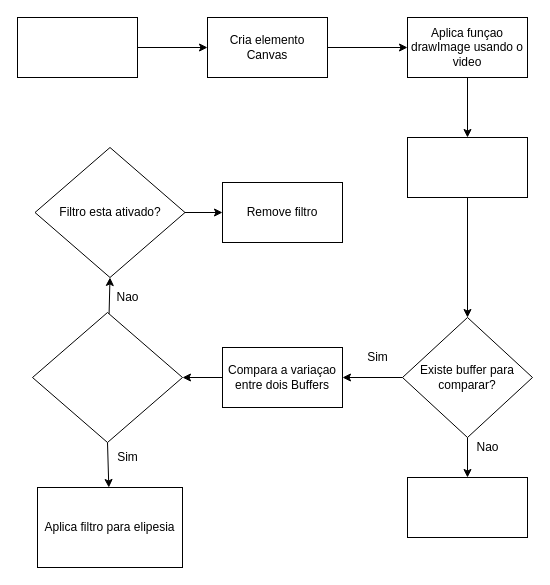
The diagram is 550 pixels wide and 585 high, and some of its shapes have lost their labels. The box of each missing label's shape, as (x1, y1, x2, y2) in pixels:
Adiciona buffer para comparar: (406, 476, 528, 538)
Pega o Buffer da imagem: (406, 136, 528, 198)
Pega videoHTML: (16, 16, 138, 78)
valores sao discrepantes?: (32, 312, 182, 442)
